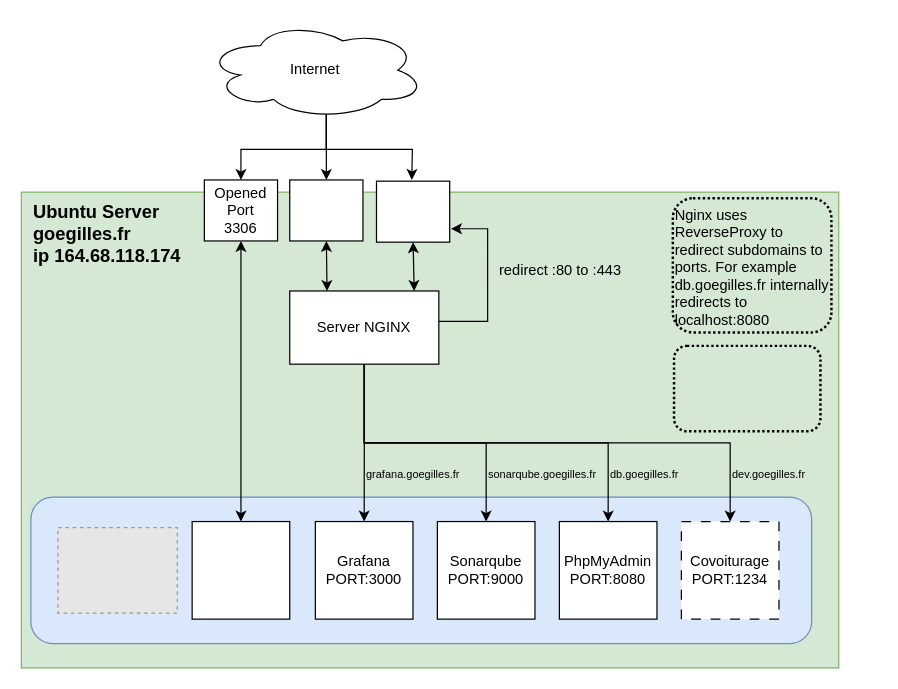
Image size: 898x689. Some labels were removed from this diagram. Grey dashed boxes stand in for pictures. The centre of each missing label's shape, as x and y in pixels:
Docker runs many containers. In future in will also run Covoiturage app: the point at 746,388
Mysql PORT:3306: the point at 240,569
Opened Port 443: the point at 412,211
Opened Port 80: the point at 326,210
